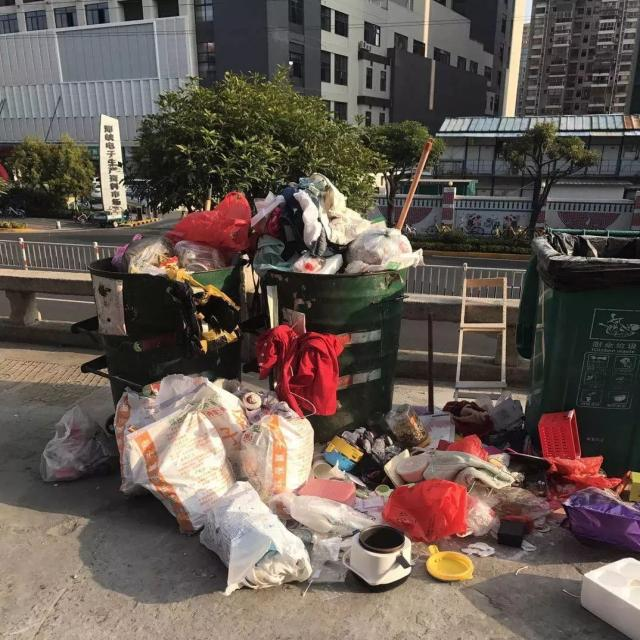garbage: (40, 325, 640, 639)
garbage_bin: (516, 226, 640, 470)
overflow: (250, 172, 419, 442), (91, 191, 250, 400)
